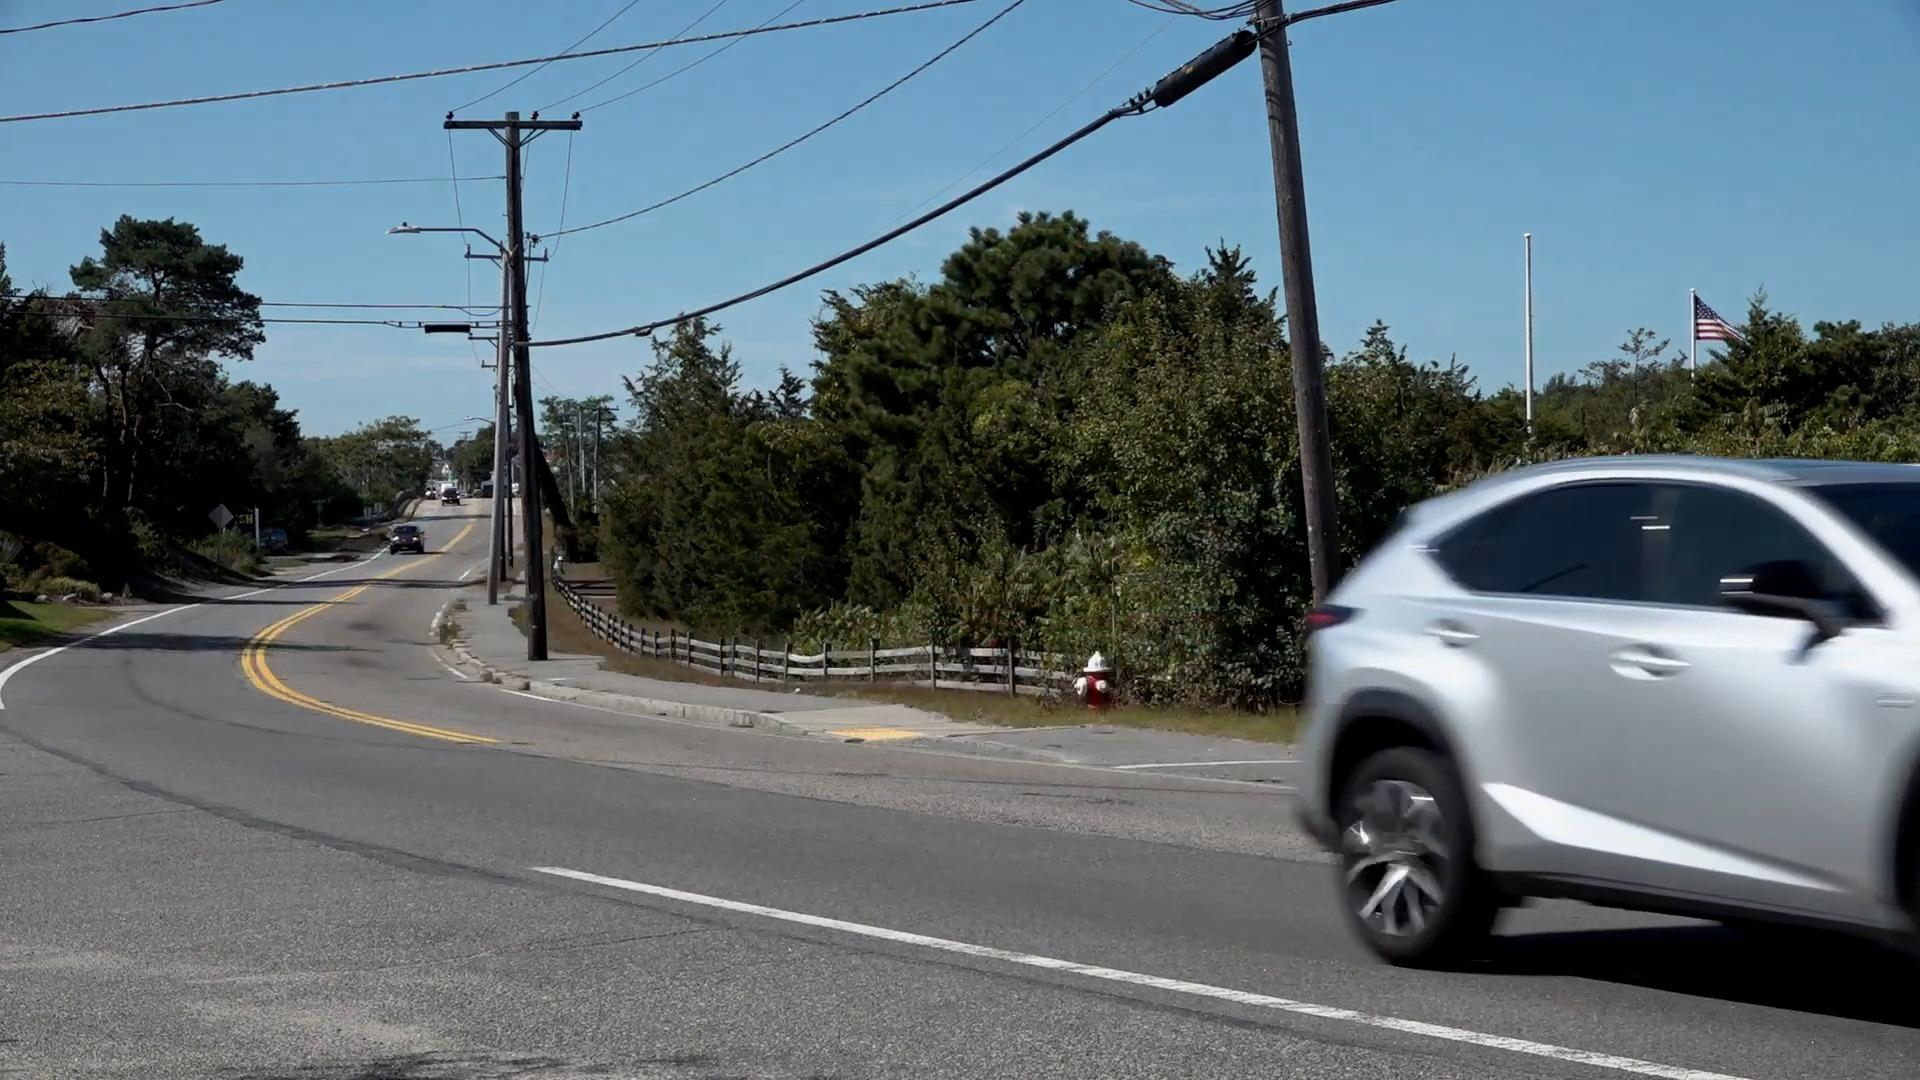sedans: (1288, 448, 1920, 971)
